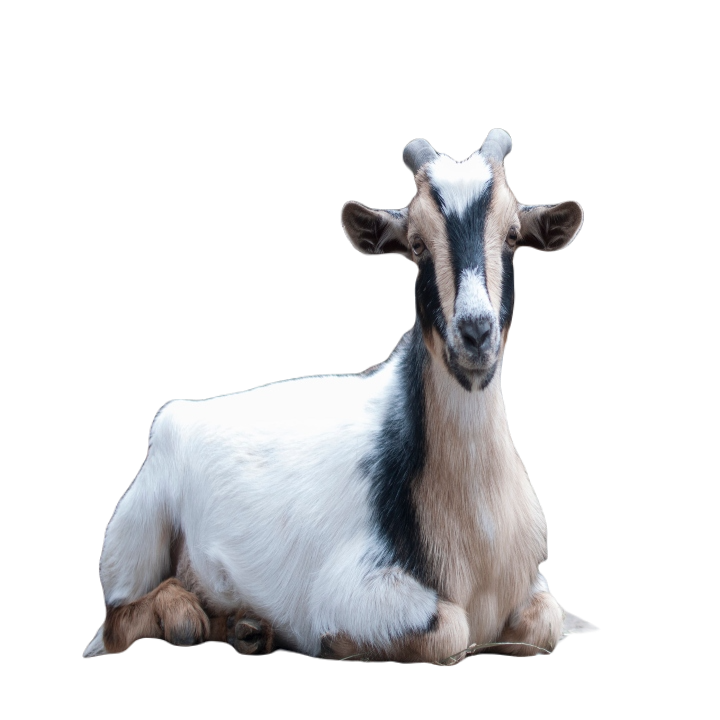Goat: (75, 123, 586, 664)
